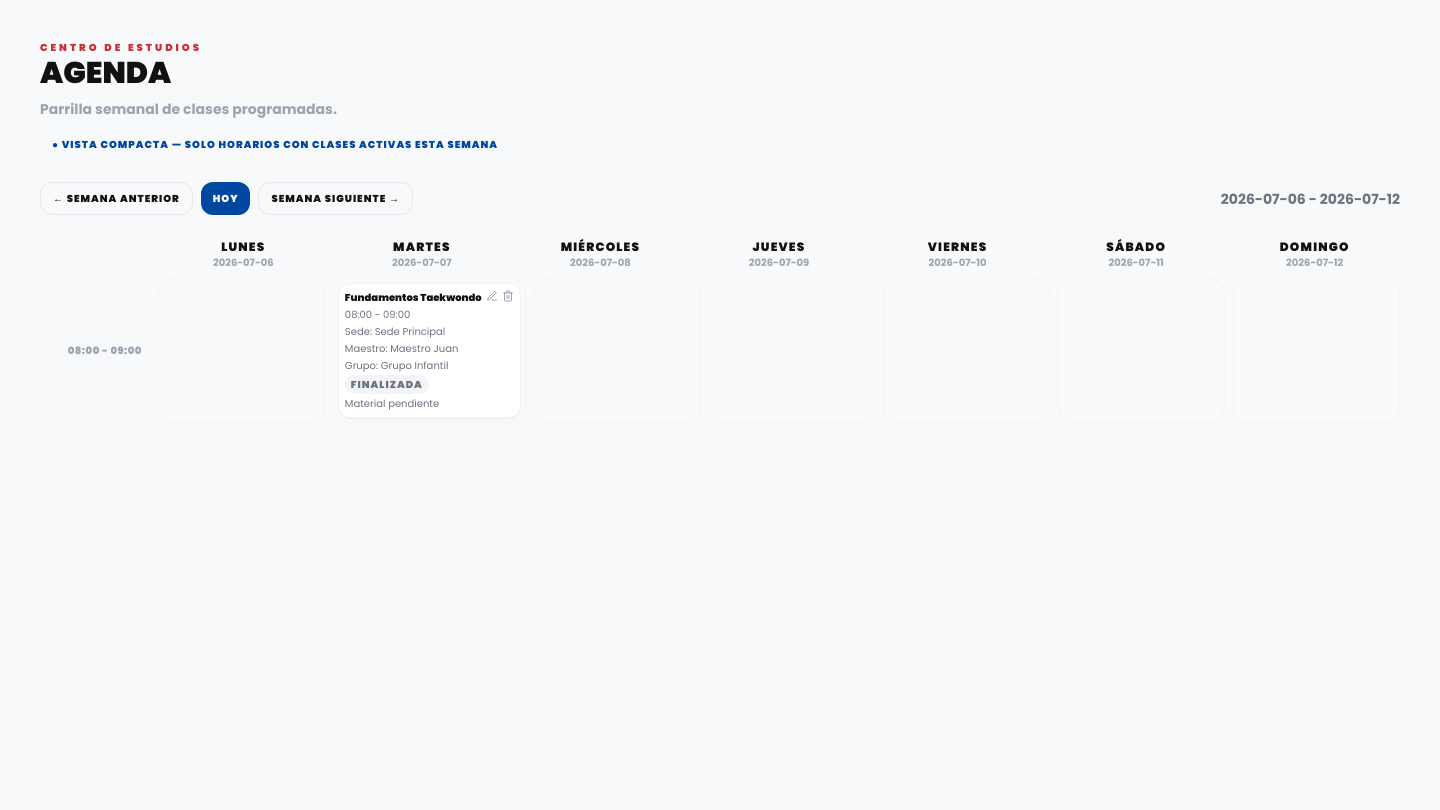
Test case: AgendaView › cerrar el modal de edicion vuelve a la parrilla sin el dialogo
The image size is (1440, 810).
Click the button named "editar clase" at (492, 296), box left=486, top=290, right=498, bottom=302
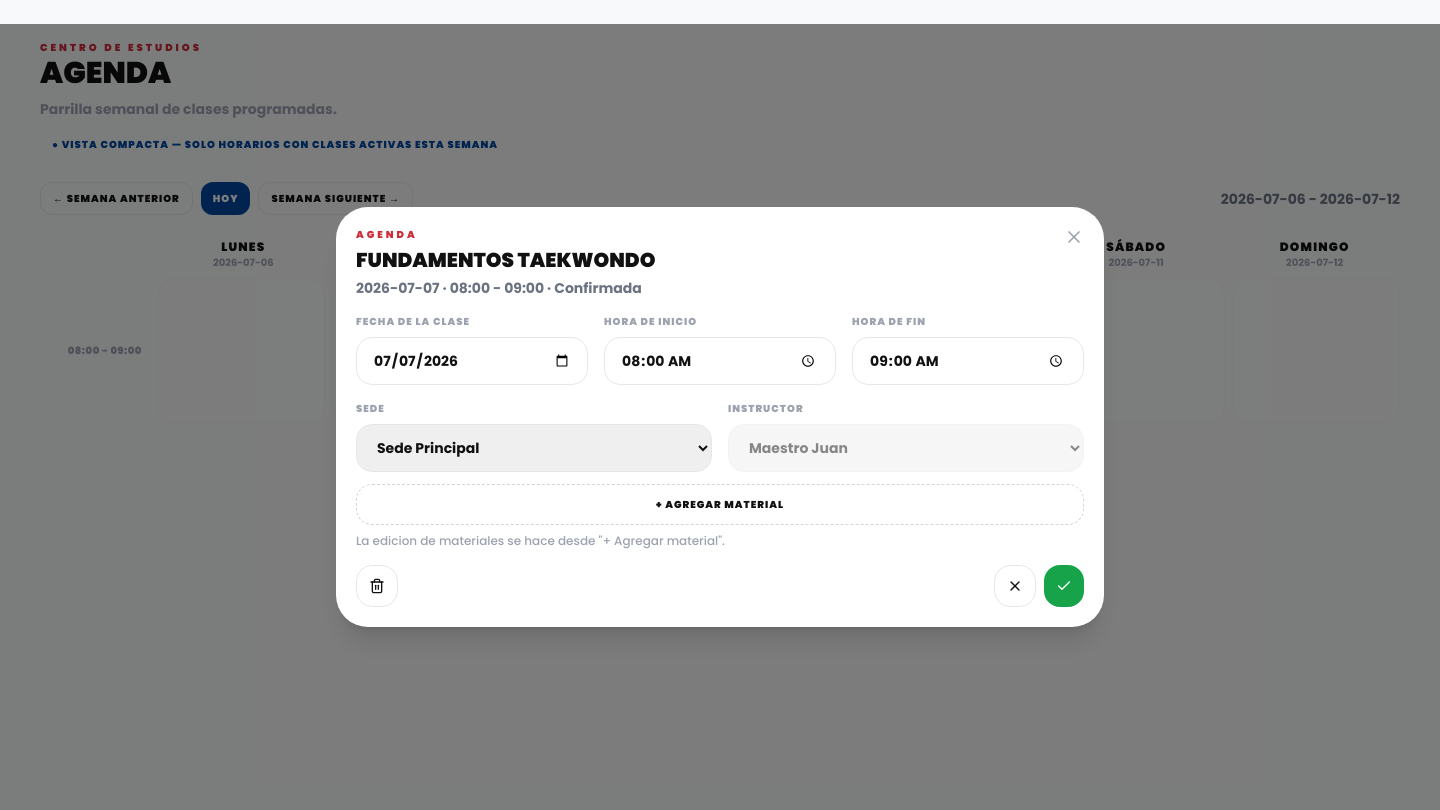
Check: the dialog is shown
Click the button named "cancelar" at (1015, 586), box left=994, top=565, right=1036, bottom=607
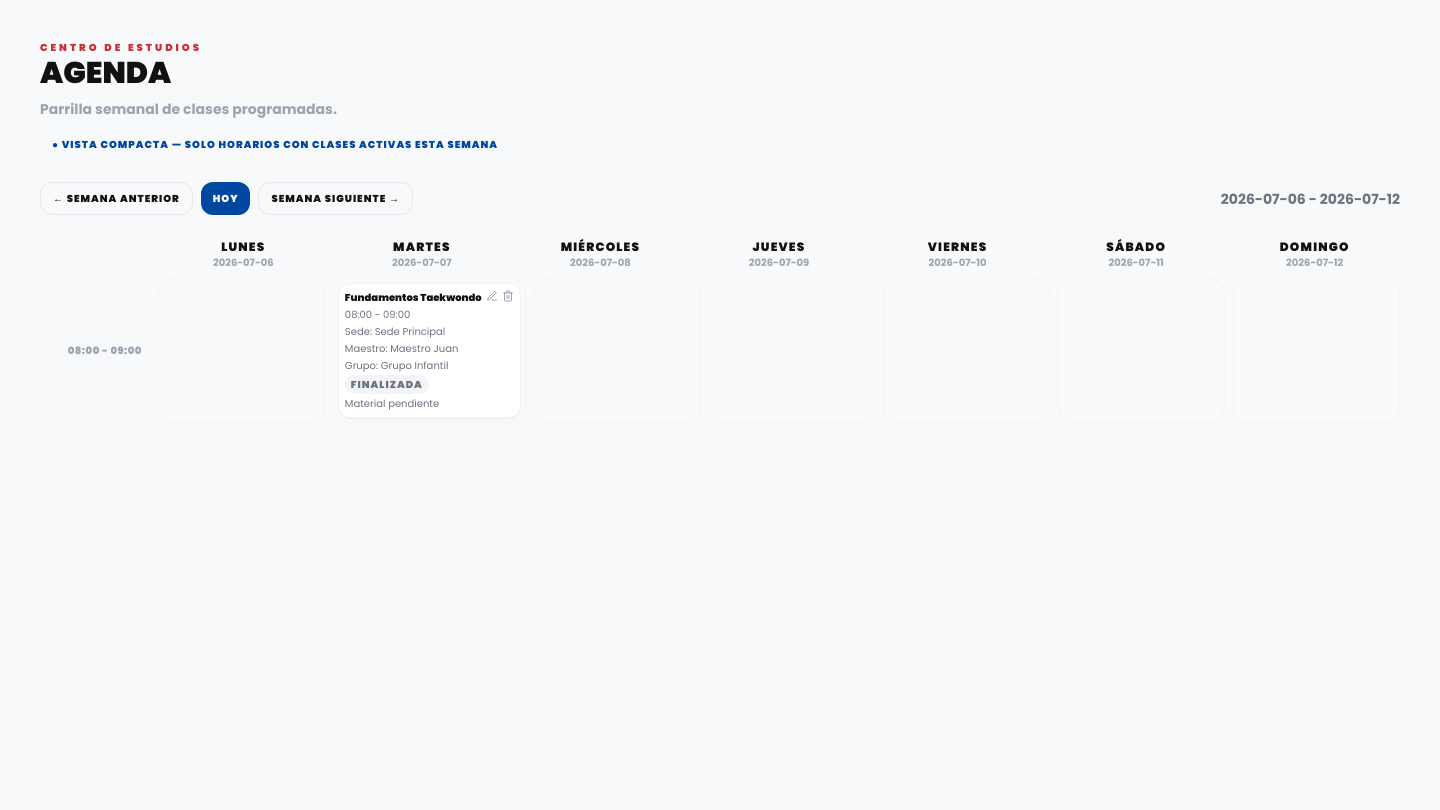
Check: the dialog is gone
